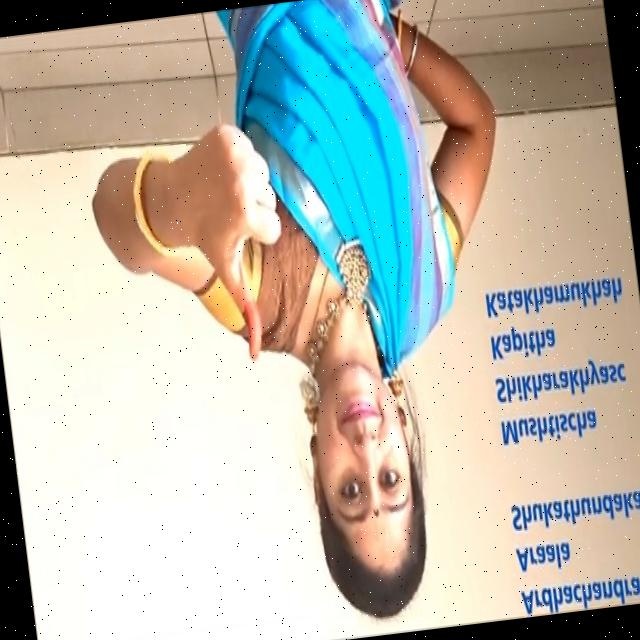Shikhara: (179, 94, 310, 380)
lady: (287, 347, 454, 618)
text: (473, 265, 640, 450), (500, 470, 640, 618)
